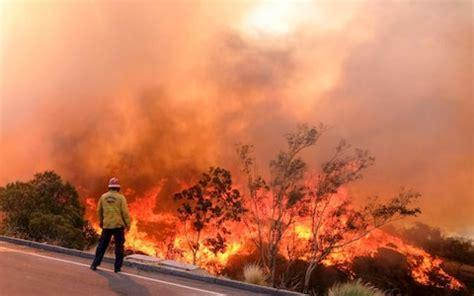fire: (80, 178, 461, 294)
